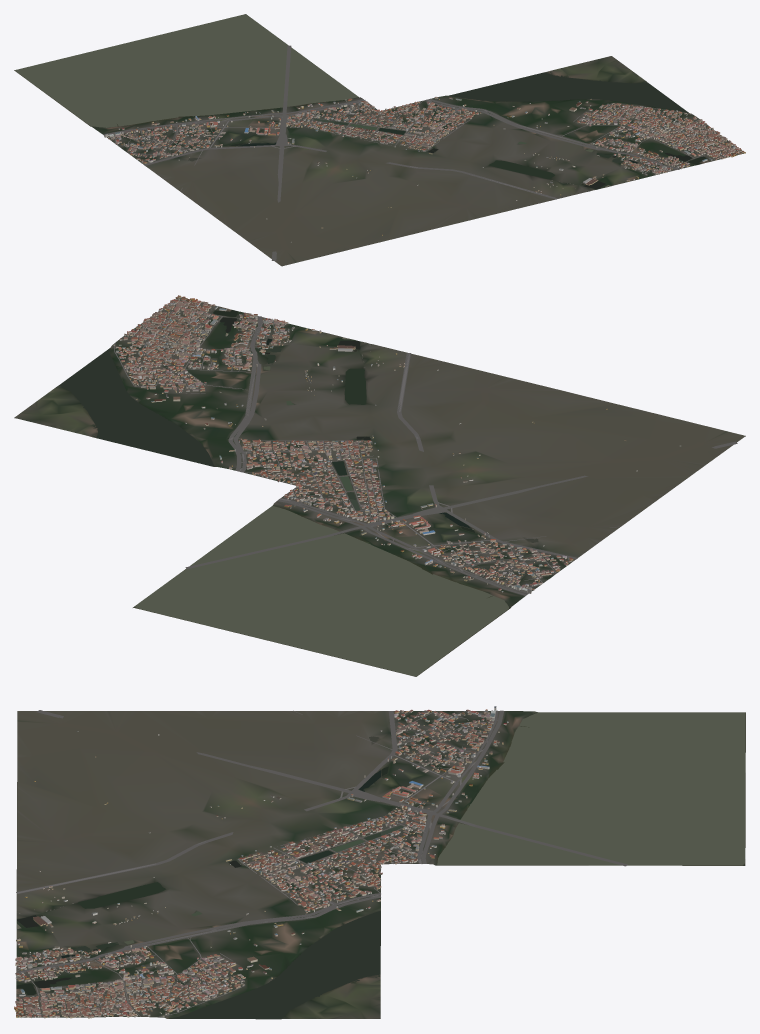
The picture shows the model from 3 angles, top to bottom: view 1: azimuth 30°, elevation 25°; view 2: azimuth 150°, elevation 25°; view 3: azimuth 270°, elevation 25°; orthographic projection. The views are drawn at different scales.
Parts seen in each view (by area): view 1: ground, water, buildings, roads; view 2: ground, water, buildings, roads; view 3: ground, water, buildings, roads.
Boxes of the visible parts, x1=… form: ground: x1=14, y1=14, x2=743, y2=266; water: x1=14, y1=14, x2=706, y2=191; buildings: x1=104, y1=97, x2=745, y2=242; roads: x1=103, y1=45, x2=732, y2=260; ground: x1=14, y1=297, x2=745, y2=676; water: x1=59, y1=310, x2=551, y2=676; buildings: x1=113, y1=295, x2=681, y2=593; roads: x1=114, y1=299, x2=737, y2=595; ground: x1=16, y1=711, x2=745, y2=1019; water: x1=16, y1=711, x2=745, y2=1018; buildings: x1=14, y1=706, x2=508, y2=1018; roads: x1=15, y1=710, x2=627, y2=1017.
Size of the model in its own units: 2813 by 25.28 by 2817.
